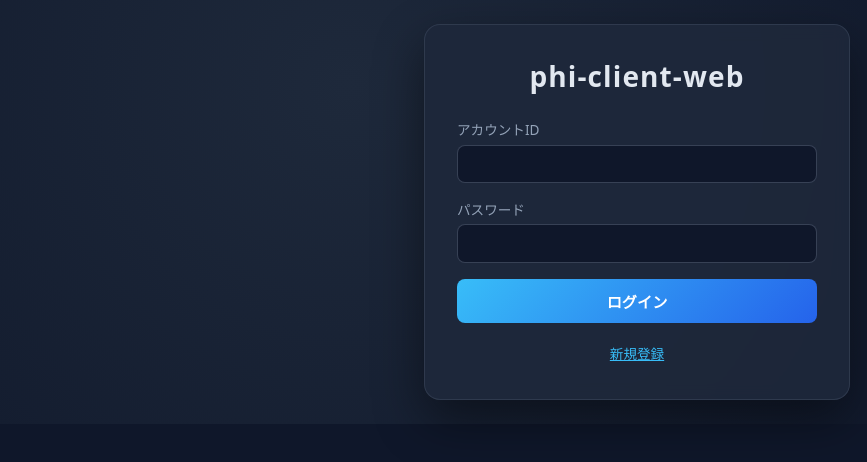
Test: Login (A-34, アカウント+パスワード) › ログイン失敗でエラー表示
In the field labelled "アカウントID": (637, 164) 457,145 -> 817,183, type "acc-x"
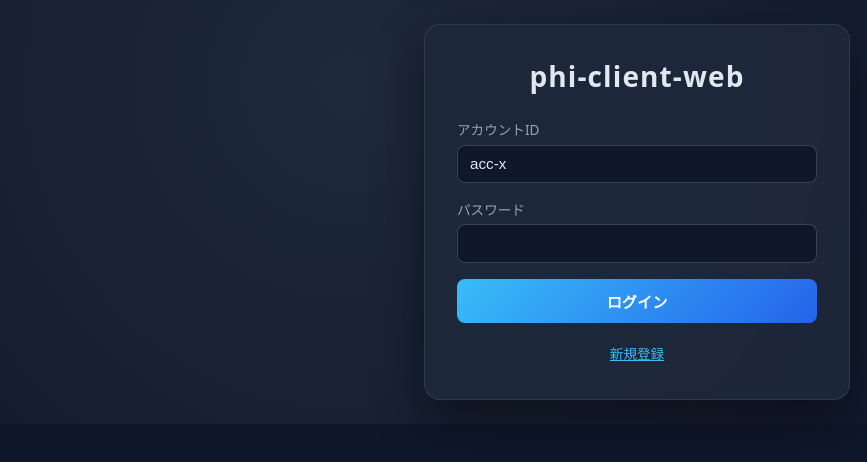
In the password field labelled "パスワード": (637, 244) 457,224 -> 817,263, type "pw"
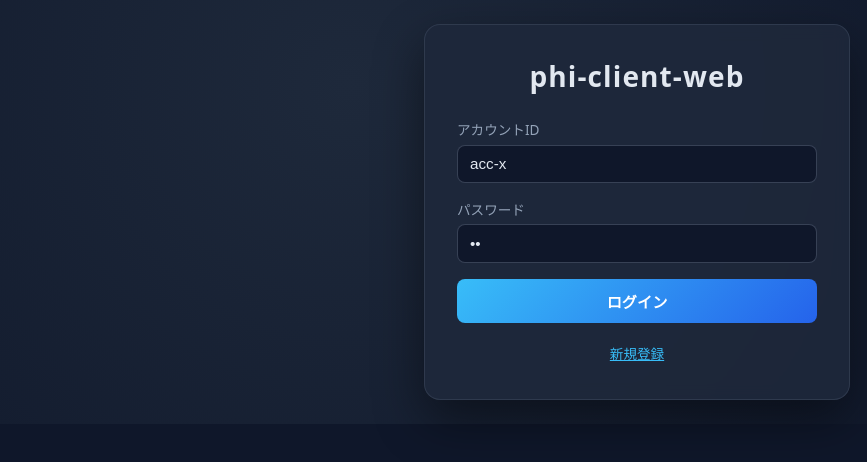
Click the button "ログイン": (637, 301) 457,279 -> 817,323
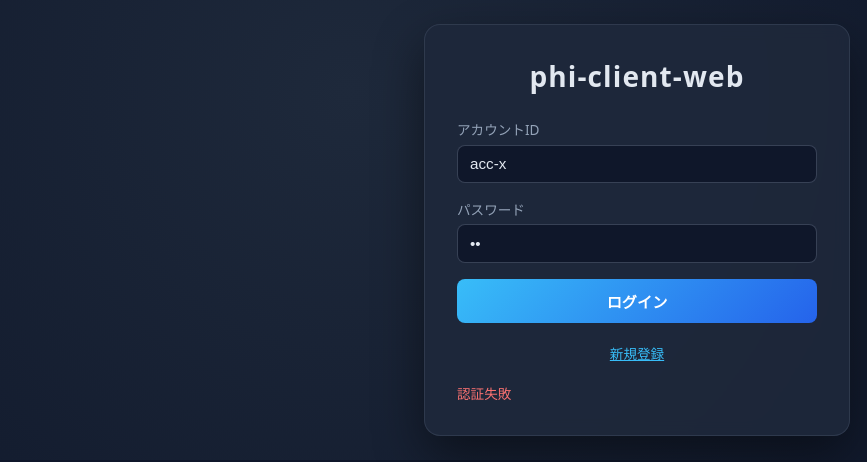
Expected: the message reads "認証失敗", 457,384 -> 511,403
